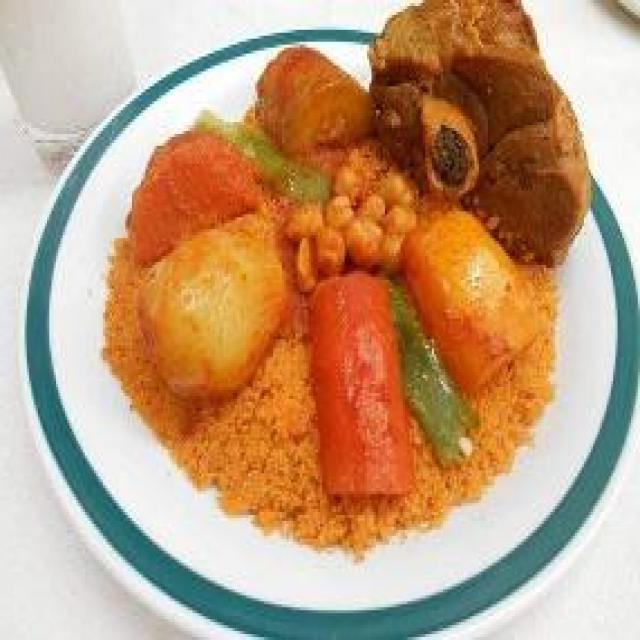Couscous: (97, 2, 594, 566)
